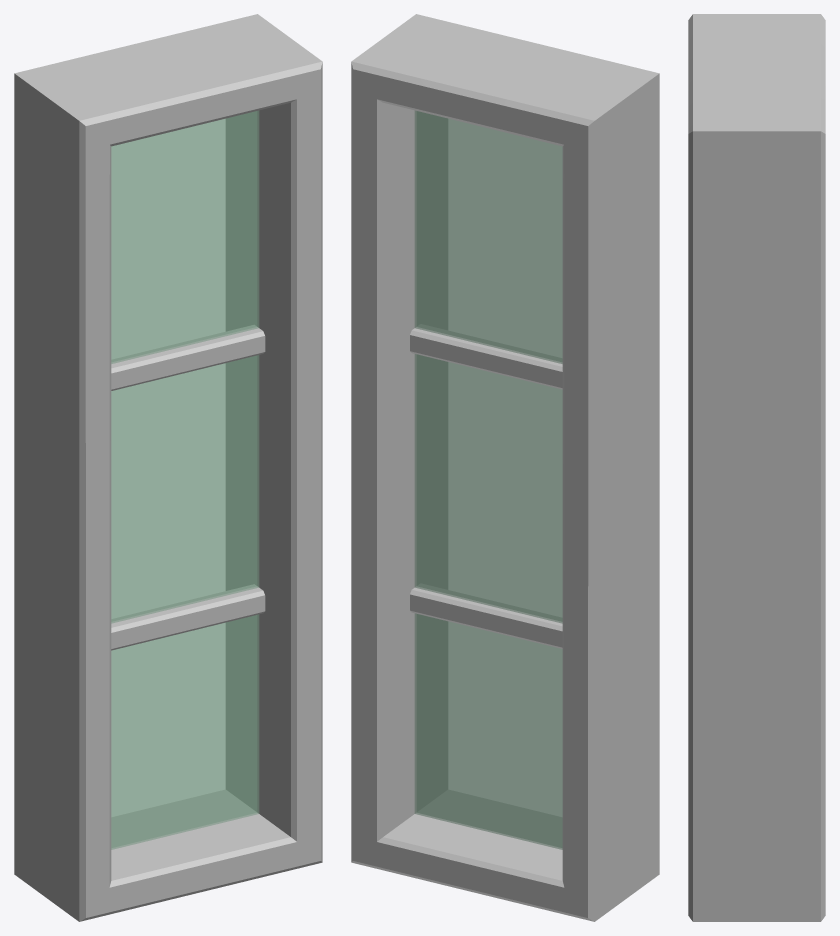
Rendered from LivingRoomWin05.FBX.
3 renders of one model, left to right at view 1: azimuth 30°, elevation 25°; view 2: azimuth 150°, elevation 25°; view 3: azimuth 270°, elevation 25°, orthographic.
Parts seen in each view (by area): view 1: LivingRoomWin05; view 2: LivingRoomWin05; view 3: LivingRoomWin05.
Boxes of the visible parts, x1,y1,x2,y2 form: LivingRoomWin05: [14, 14, 322, 921]; LivingRoomWin05: [351, 14, 659, 921]; LivingRoomWin05: [688, 14, 825, 921].
Bounding box in the file's own units: 61.14 × 30.33 × 192.
